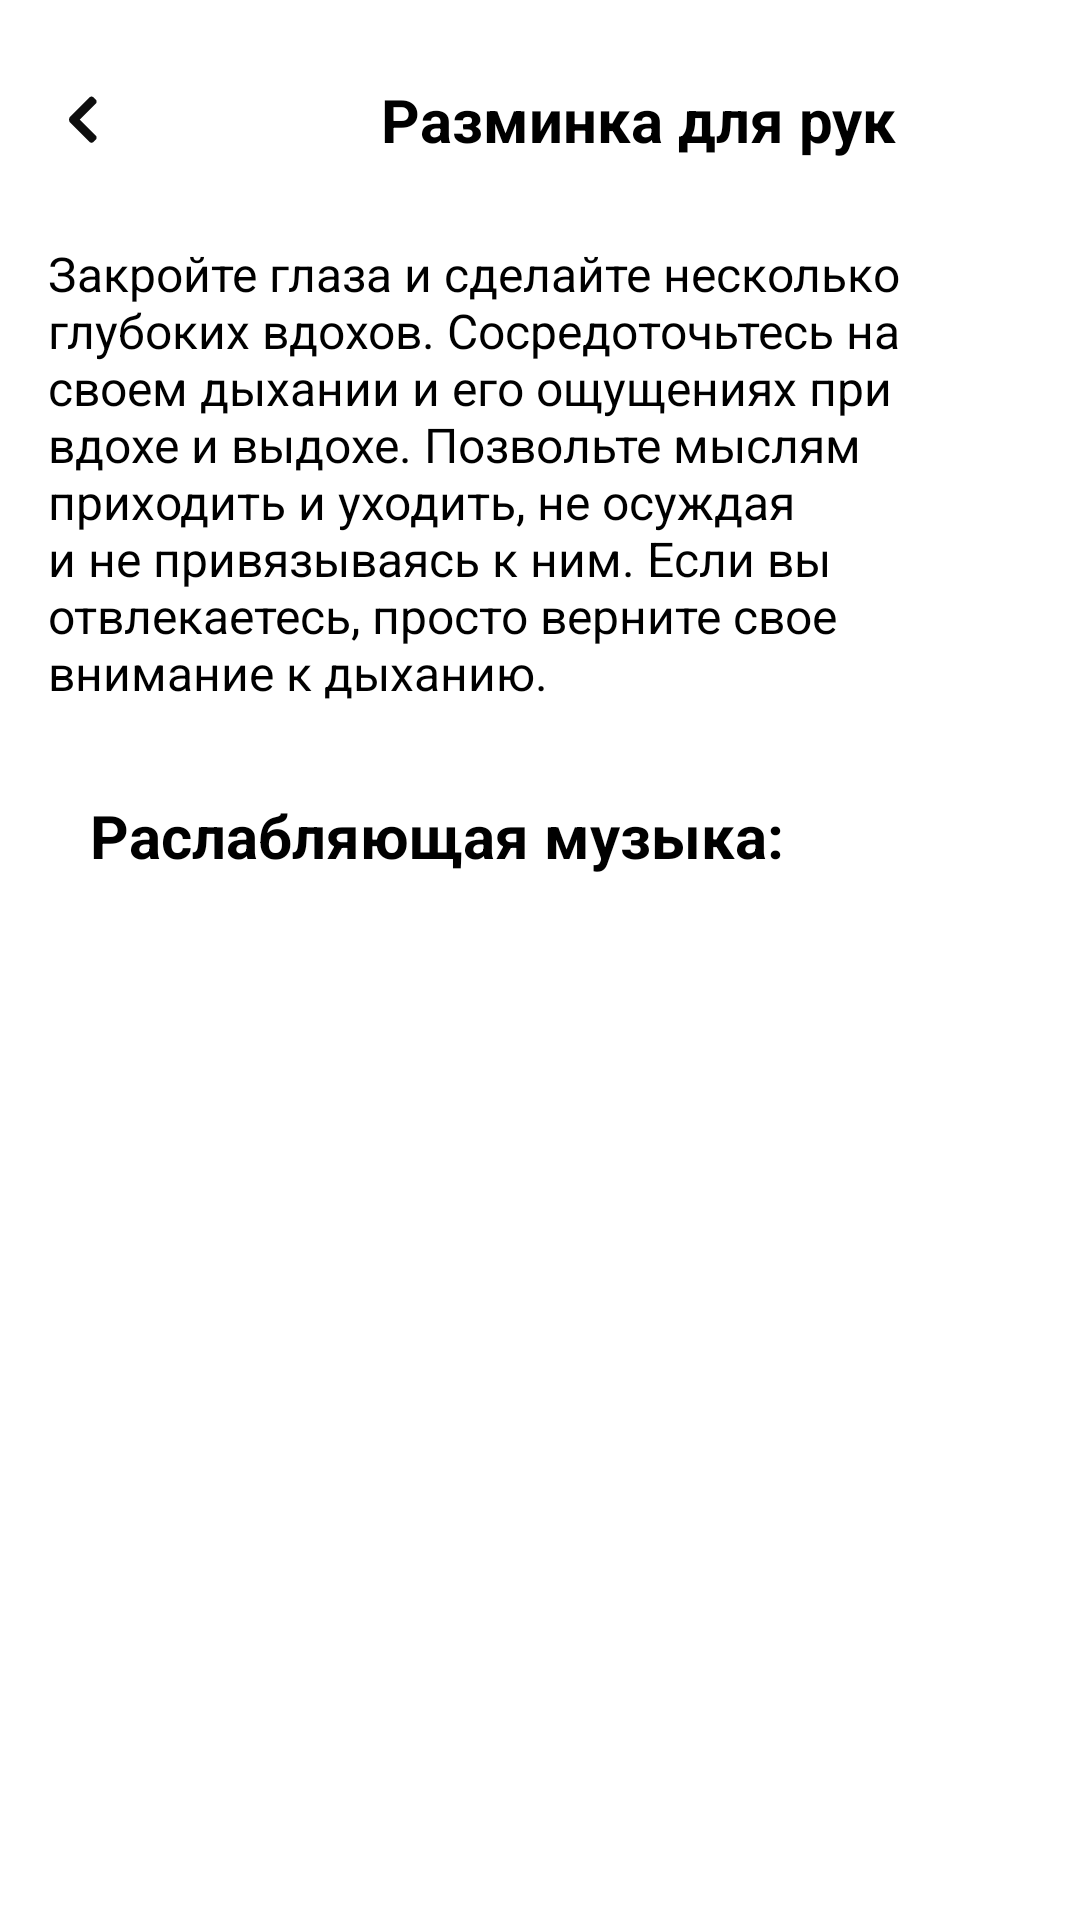

Icon click points for this 1080 x 1920 phone screenshot, format [x,y]:
back: [83,119]
